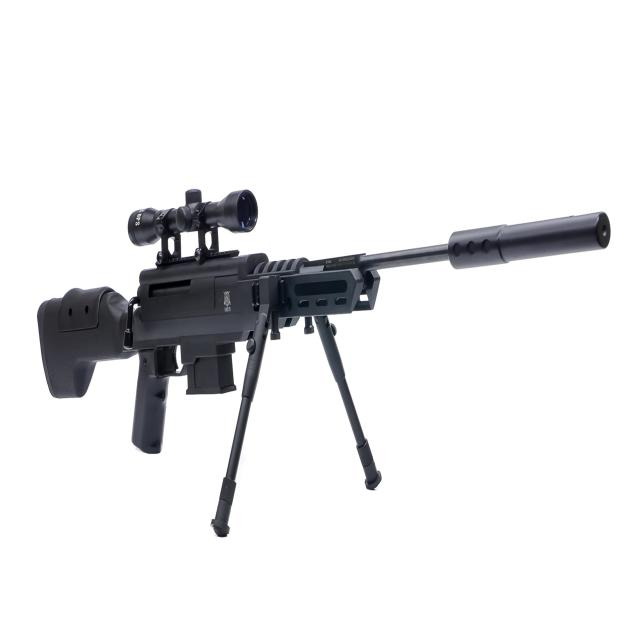Rifle: (37, 188, 612, 457)
